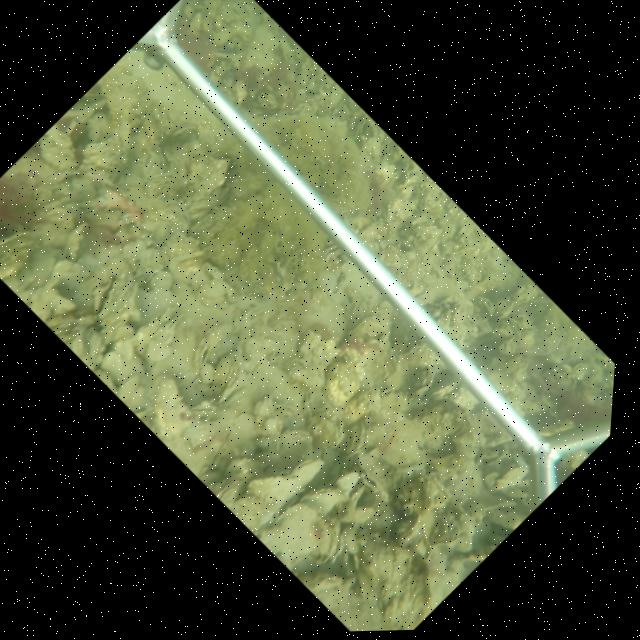Oyster-Closed: (257, 501, 337, 571), (245, 456, 327, 514), (354, 455, 391, 507), (133, 304, 175, 347), (337, 417, 373, 460), (279, 426, 314, 468), (302, 486, 351, 515), (361, 329, 391, 369), (338, 480, 364, 524), (423, 372, 460, 400), (157, 312, 185, 342), (211, 358, 235, 388), (118, 370, 141, 400), (144, 269, 175, 291), (187, 401, 216, 418)
Oyster-Indeterminate: (185, 155, 231, 200), (306, 403, 347, 453), (492, 463, 531, 492), (62, 221, 88, 260), (421, 570, 444, 607)
Oyster-Open: (93, 273, 130, 330), (342, 550, 362, 574)
